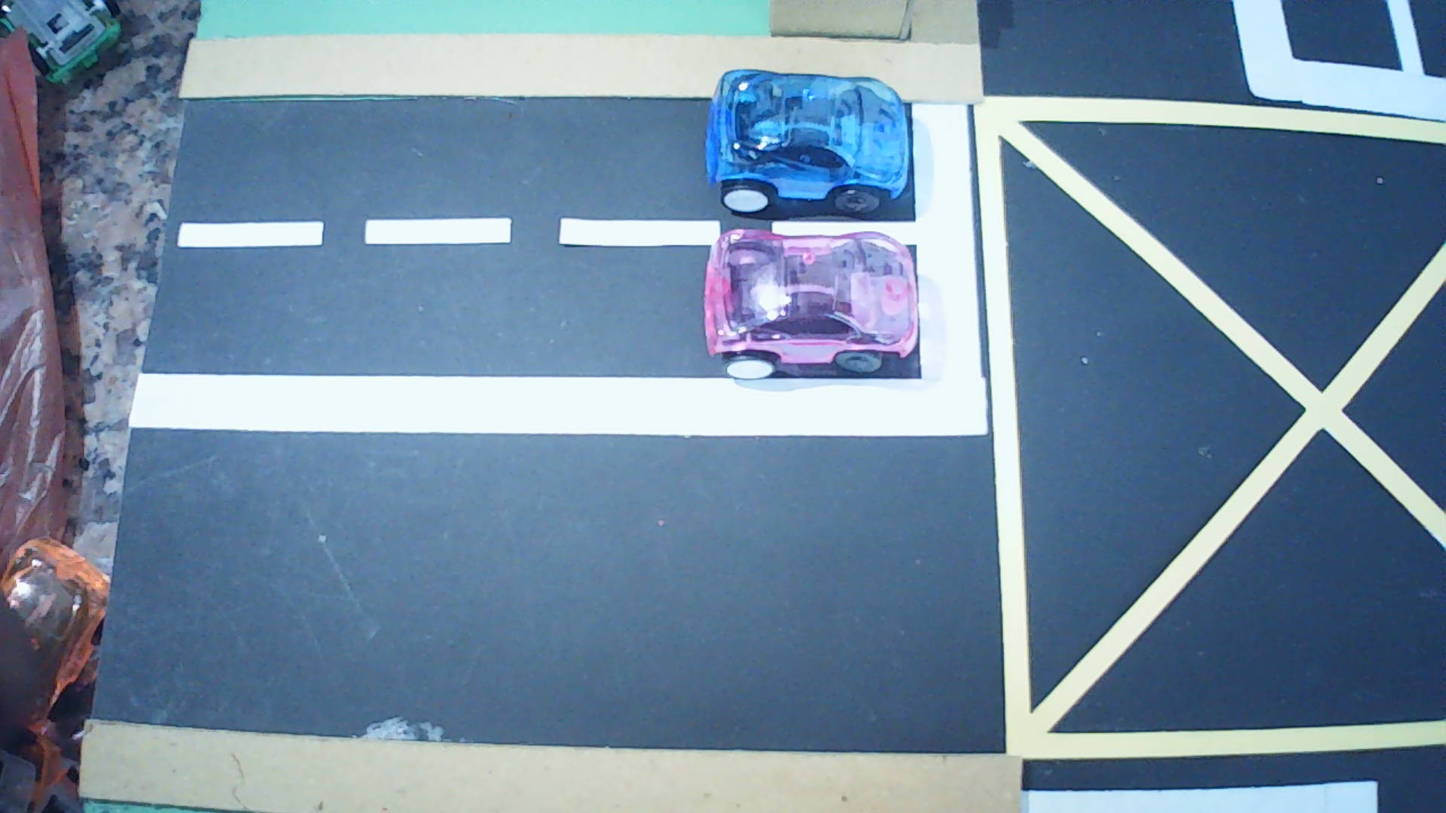Mobil biru: (704, 69, 911, 218)
Mobil ungu: (703, 230, 919, 379)
